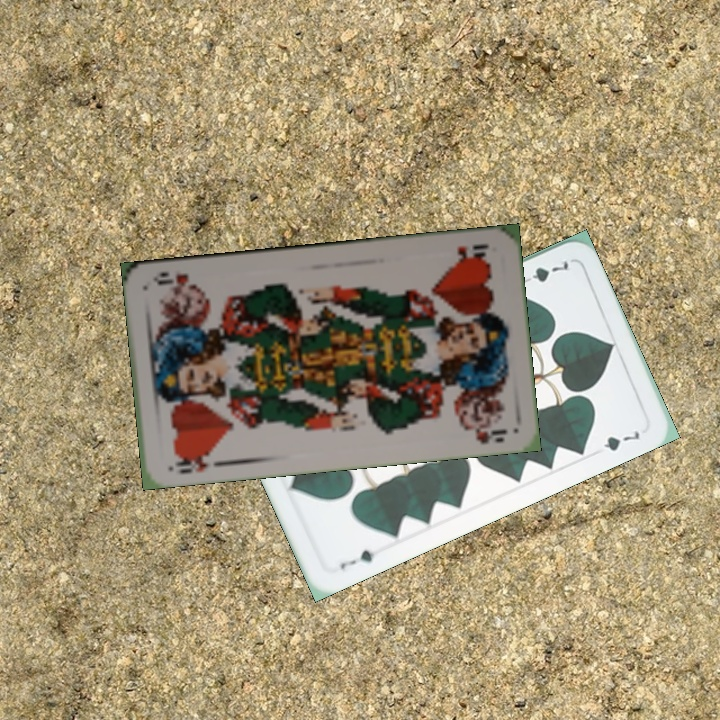G7: (516, 256, 572, 287), (336, 545, 377, 572)
HO: (170, 447, 225, 476), (453, 240, 492, 264)
